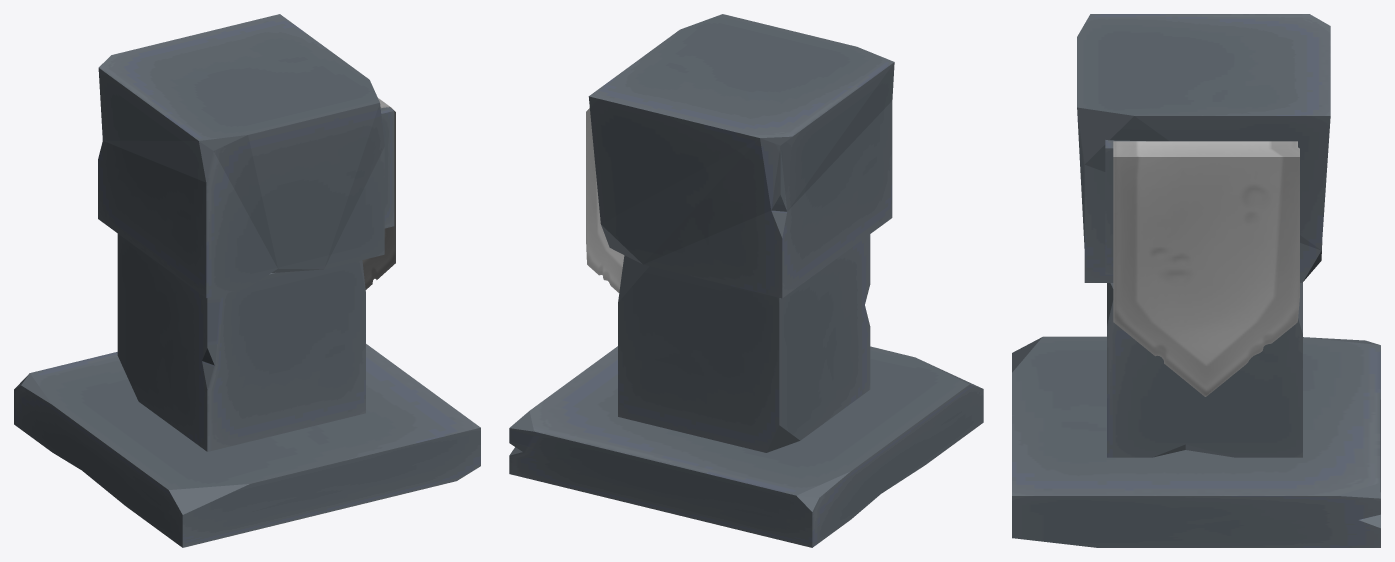
File: Pillar1B-004_02_20_3081.fbx
3 renders of one model, left to right at view 1: azimuth 30°, elevation 25°; view 2: azimuth 150°, elevation 25°; view 3: azimuth 270°, elevation 25°, orthographic. The views are drawn at different scales.
Visible parts, largest first — view 1: 1B_Pillar, Plane_001 (4); view 2: 1B_Pillar, Plane_001 (4); view 3: 1B_Pillar, Plane_001 (4).
Boxes of the visible parts, box(x1,y1,x2,y2) form: 1B_Pillar: box(14, 14, 480, 547); Plane_001 (4): box(362, 98, 395, 289); 1B_Pillar: box(509, 14, 983, 547); Plane_001 (4): box(586, 108, 624, 292); 1B_Pillar: box(1012, 14, 1380, 547); Plane_001 (4): box(1113, 141, 1299, 396).
Bounding box in the file's own units: 1.88 × 2.22 × 1.84.
